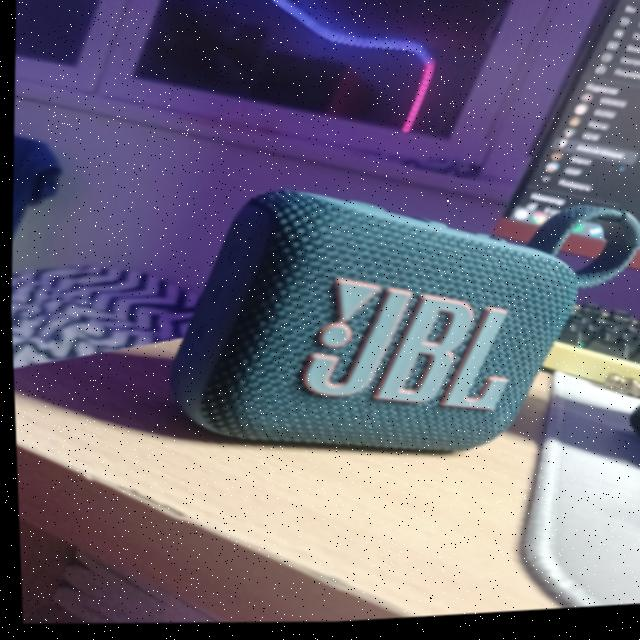column JBL: (169, 194, 639, 457), (319, 256, 329, 268)
